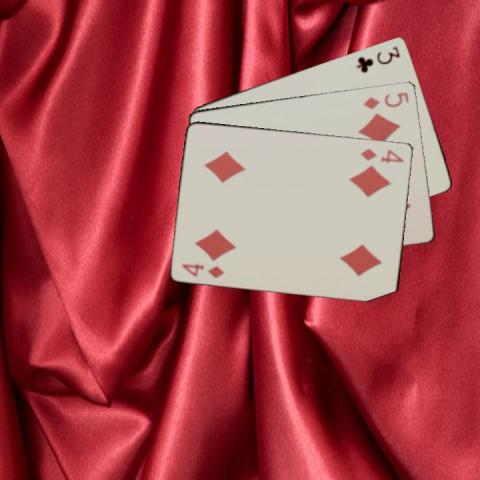3c: (354, 43, 402, 74)
4d: (358, 145, 406, 164), (178, 260, 226, 279)
5d: (360, 89, 410, 110)
